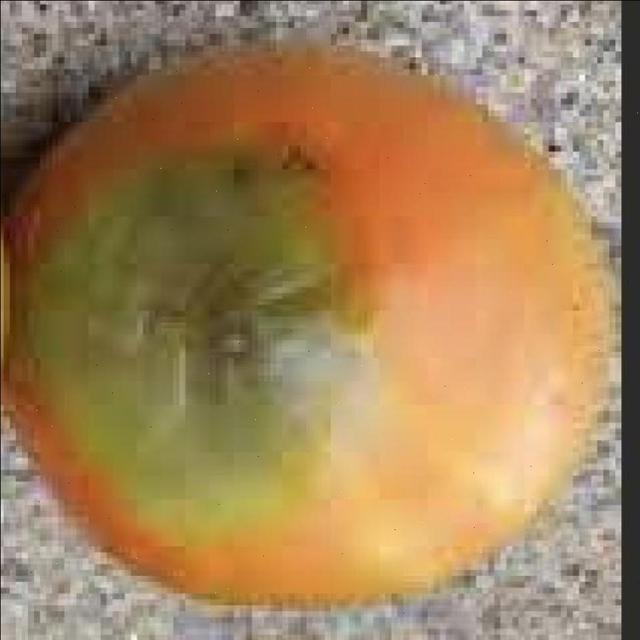Sunscald Fruit: (17, 89, 332, 376)
